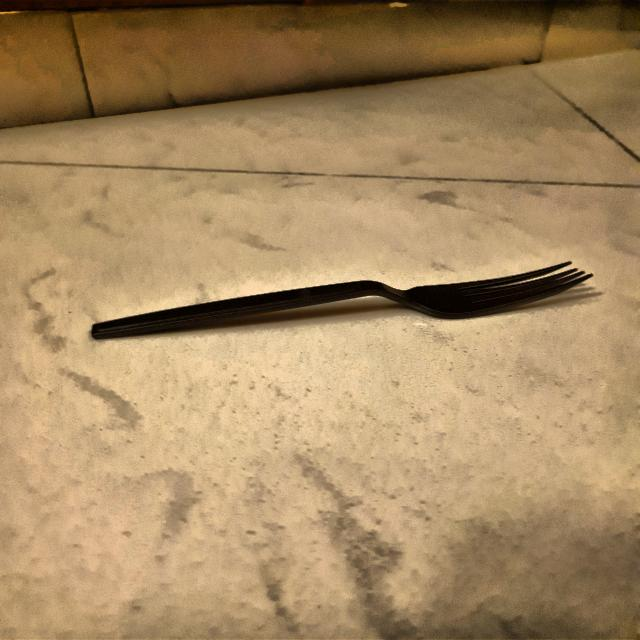plastic utensil: (85, 254, 606, 356)
